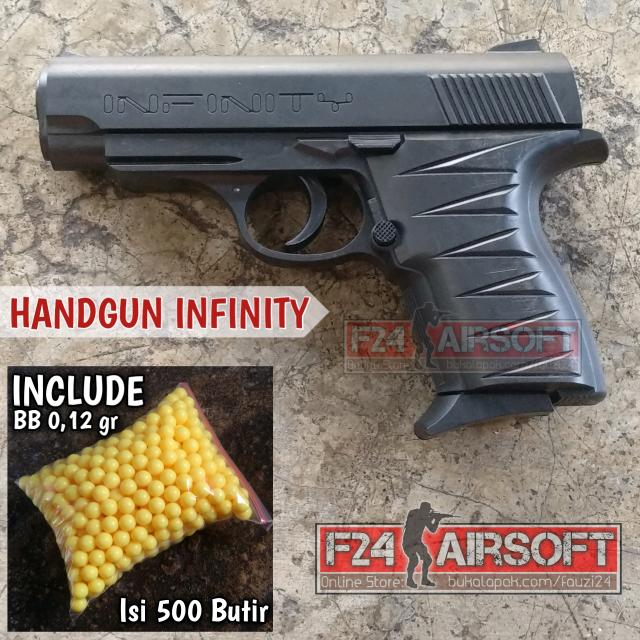gun: (29, 41, 617, 400)
